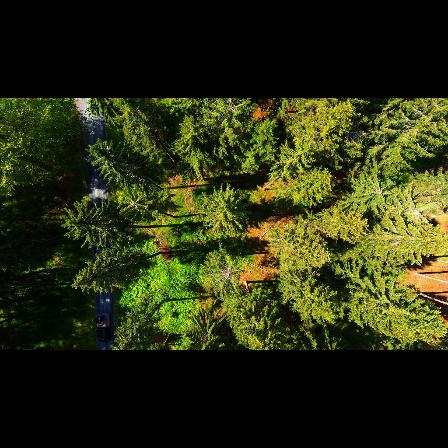Sick: (212, 255, 243, 292), (120, 187, 146, 218)
